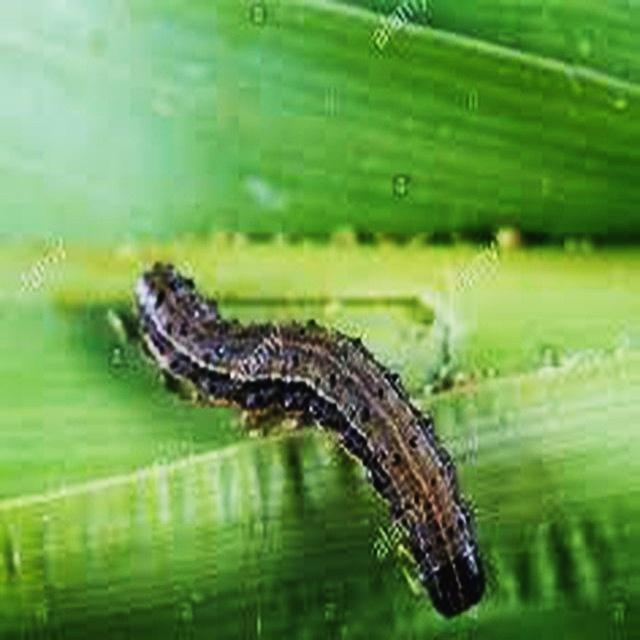gusano_cogollero: (127, 259, 490, 621)
